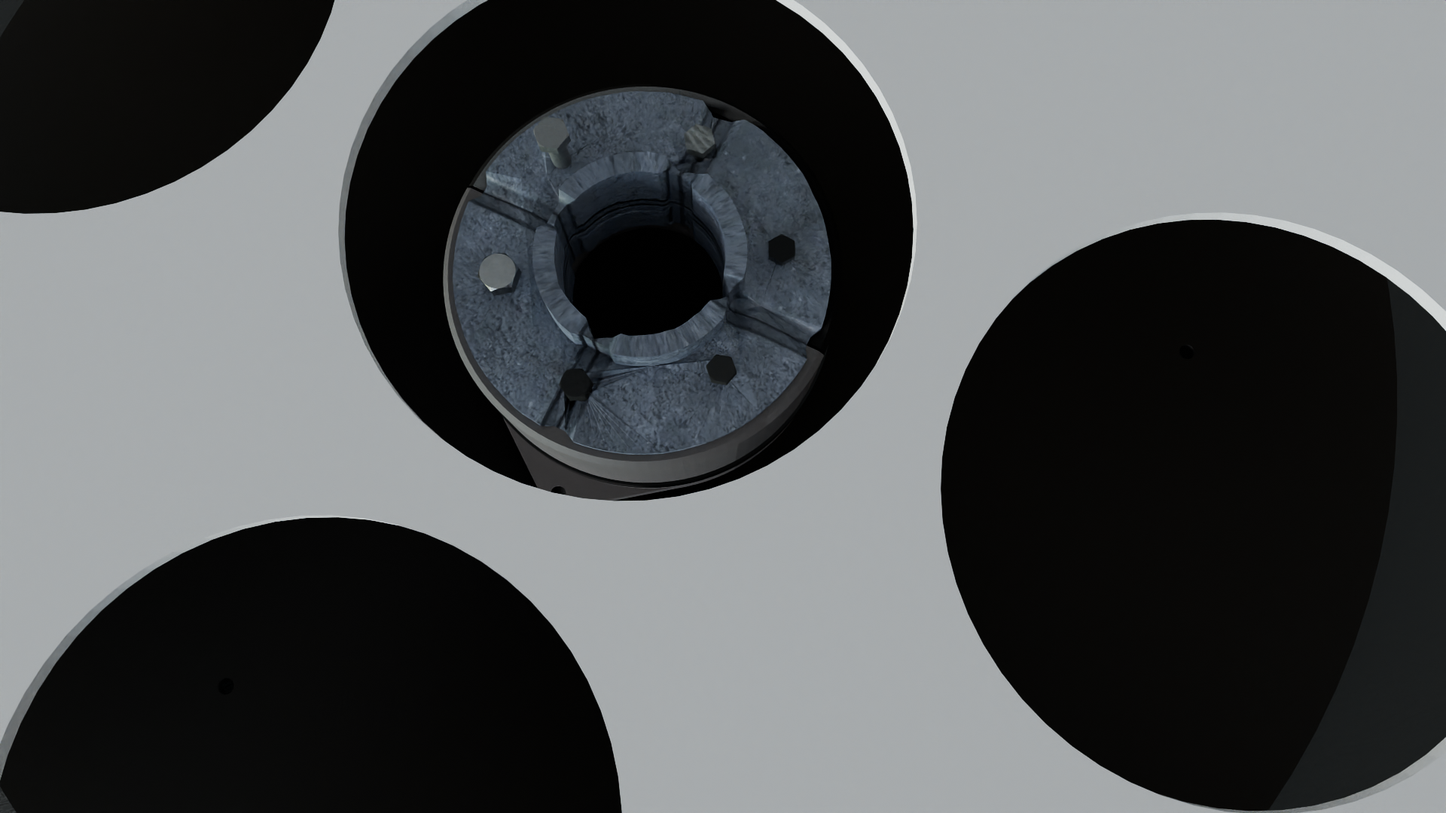bolt: (477, 253, 519, 291), (533, 117, 569, 149), (559, 369, 592, 398), (684, 124, 715, 154), (706, 355, 737, 383), (768, 234, 795, 263)
